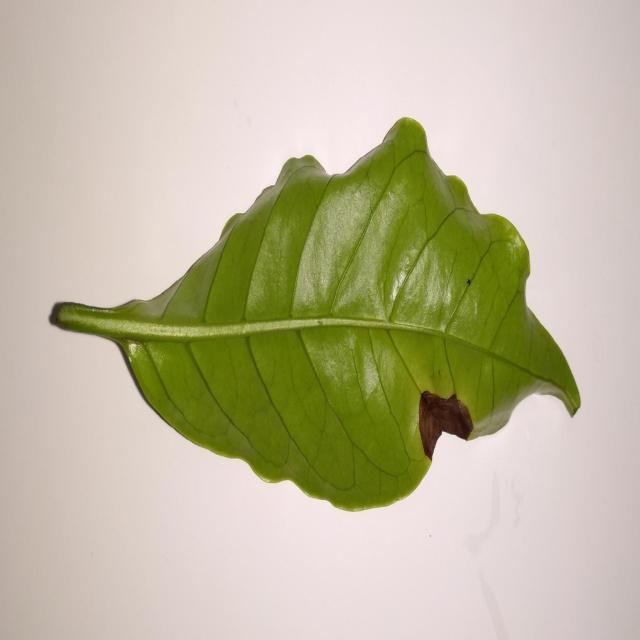Enfermedad-Antracnosis: (47, 118, 582, 514)
